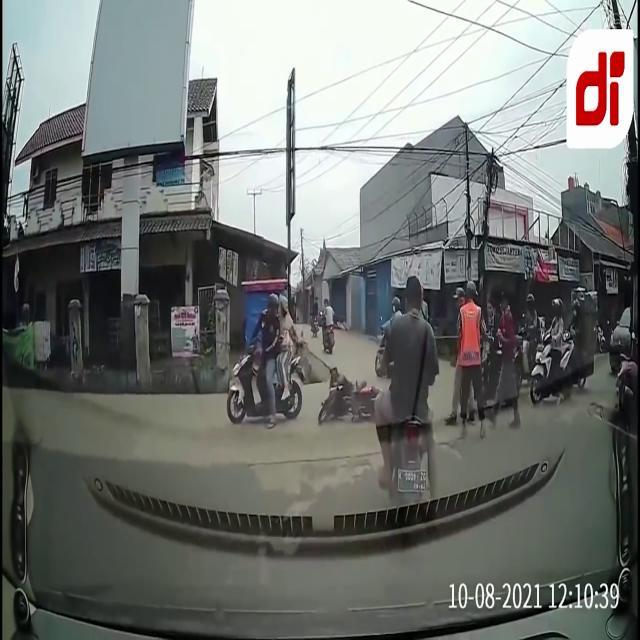multiple_accident: (220, 305, 398, 448)
normal: (457, 255, 625, 438)
